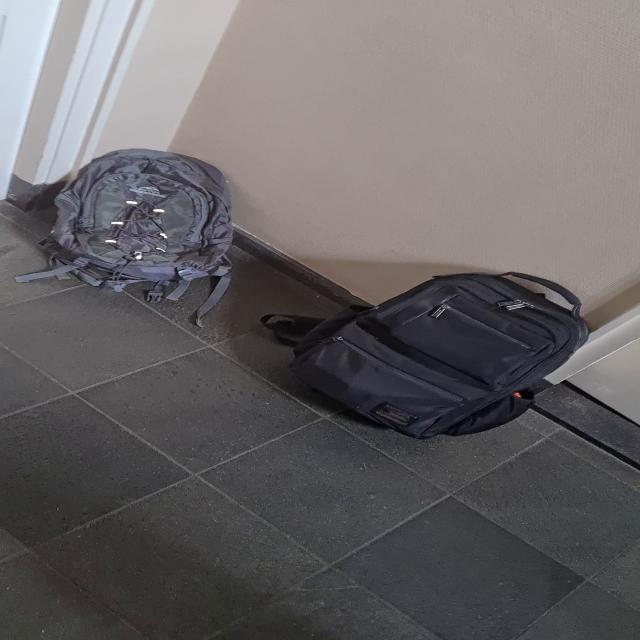backpack: (276, 267, 596, 443), (41, 143, 246, 293)
